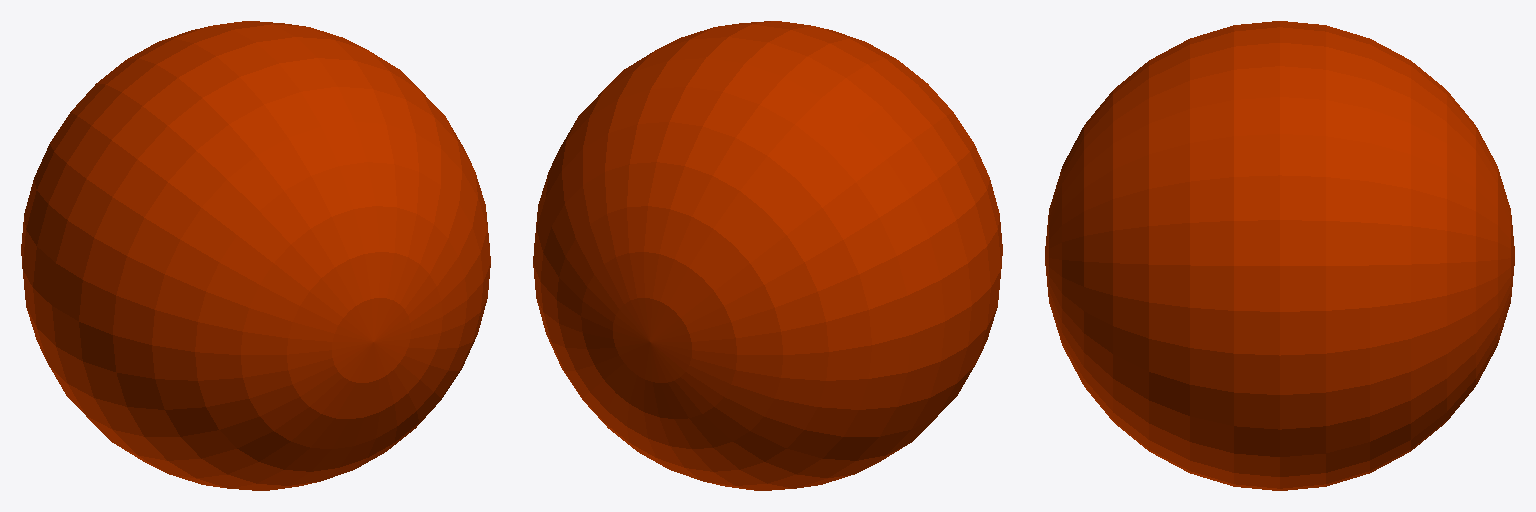
File: WheelBR_001.OBJ
The picture shows the model from 3 angles: view 1: azimuth 30°, elevation 25°; view 2: azimuth 150°, elevation 25°; view 3: azimuth 270°, elevation 25°; orthographic projection.
Parts seen in each view (by area): view 1: WheelBR_001_Sphere.009; view 2: WheelBR_001_Sphere.009; view 3: WheelBR_001_Sphere.009.
Part boxes in pixels (x1,y1,x2,y2): WheelBR_001_Sphere.009: (21,21,490,490); WheelBR_001_Sphere.009: (533,21,1002,490); WheelBR_001_Sphere.009: (1045,21,1514,490).
Bounding box in the file's own units: 0.9105 × 0.9105 × 0.9105.